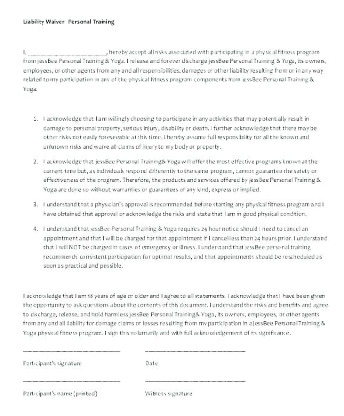textline: (140, 373, 249, 388), (139, 342, 251, 356), (21, 342, 124, 356), (20, 374, 123, 386), (26, 45, 108, 58)
